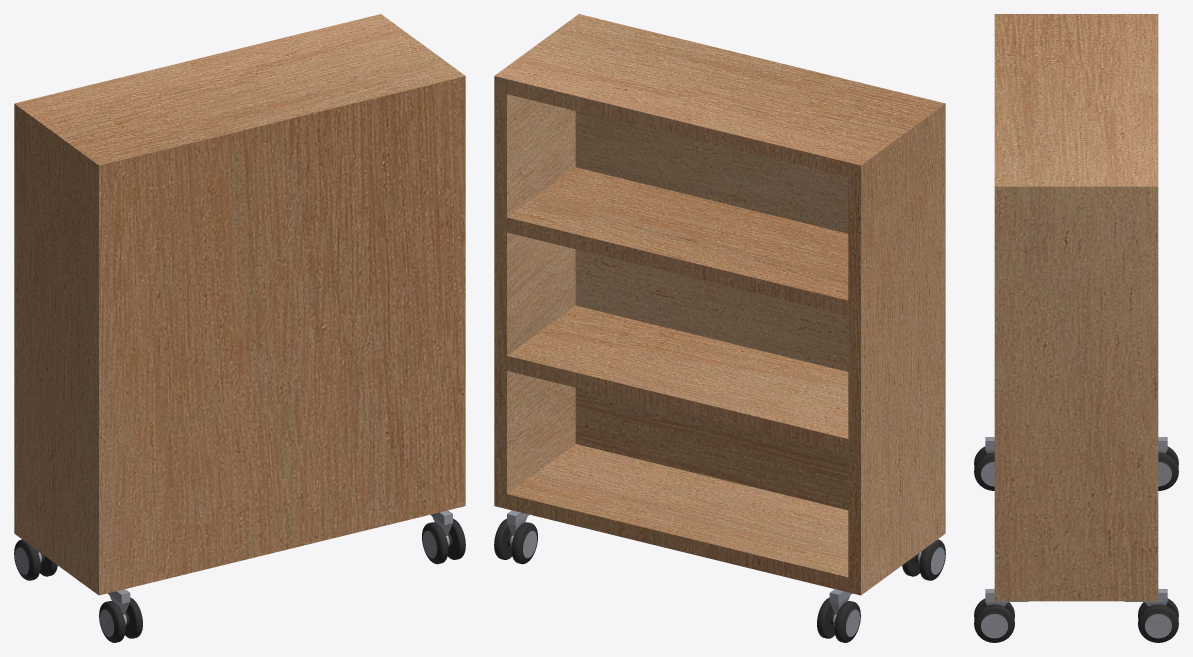
File: SmallShelfWheels.fbx
3 views of the same model, side by side, from view 1: azimuth 30°, elevation 25°; view 2: azimuth 150°, elevation 25°; view 3: azimuth 270°, elevation 25° (orthographic). The views are drawn at different scales.
Parts seen in each view (by area): view 1: MiniShelfMk2; view 2: MiniShelfMk2; view 3: MiniShelfMk2.
Boxes of the visible parts, left/top/right/bottom form: MiniShelfMk2: left=14, top=14, right=465, bottom=642; MiniShelfMk2: left=494, top=14, right=945, bottom=642; MiniShelfMk2: left=974, top=14, right=1178, bottom=642.
Size of the model in its own units: 500 by 624 by 251.
